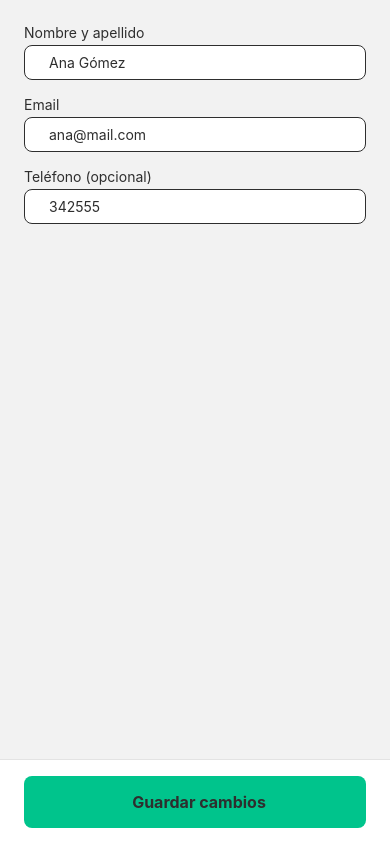
Test: FormularioUsuario › un error de red se muestra
The image size is (390, 844).
Click the button "Guardar cambios". click: [195, 802]
box: x1=24 y1=776 x2=366 y2=828
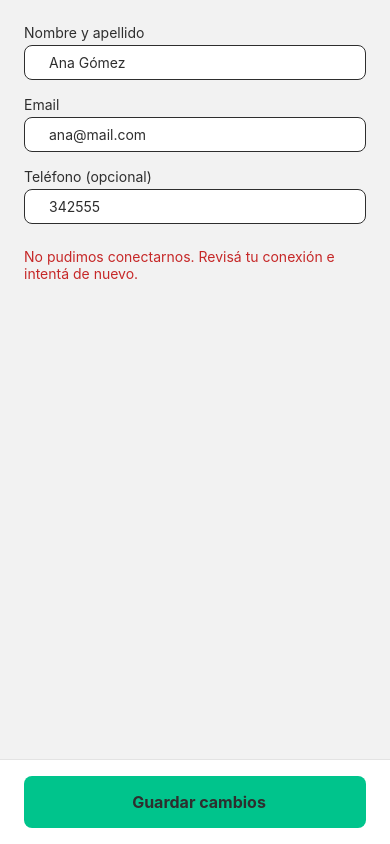
expect the text "No pudimos conectarnos" is shown: met, box x1=24 y1=248 x2=339 y2=282
